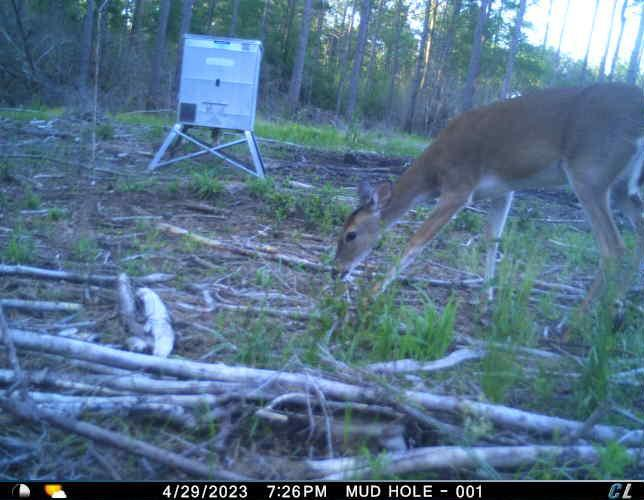Deer: (328, 81, 644, 339)
